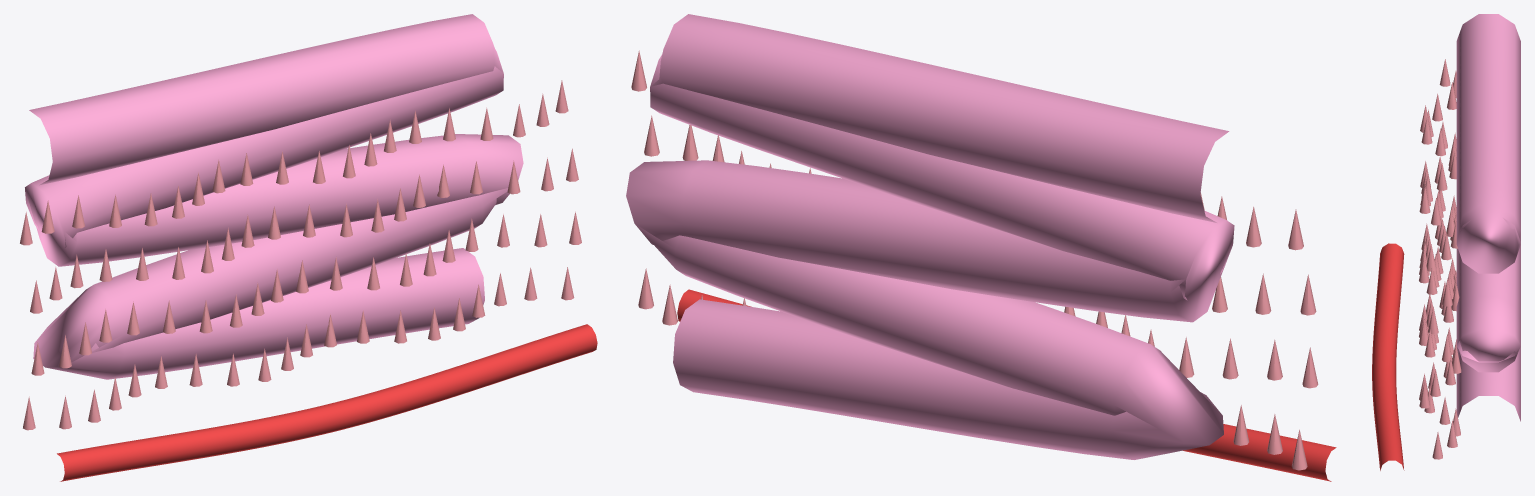
Rendered from small-intestine-villi-world.glb.
3 views of the same model, side by side, from view 1: azimuth 30°, elevation 25°; view 2: azimuth 150°, elevation 25°; view 3: azimuth 270°, elevation 25° (orthographic). The views are drawn at different scales.
Parts seen in each view (by area): view 1: coiled-small-intestine, blood-vessel; view 2: coiled-small-intestine, blood-vessel; view 3: coiled-small-intestine, blood-vessel, villus-71, villus-39, villus-60, villus-65, villus-78, villus-63, villus-19, villus-57, villus-59, villus-69 (+12 smaller).
Part boxes in pixels (x1=…): coiled-small-intestine: x1=25, y1=14, x2=523, y2=379; blood-vessel: x1=57, y1=324, x2=597, y2=481; coiled-small-intestine: x1=626, y1=14, x2=1234, y2=459; blood-vessel: x1=677, y1=289, x2=1336, y2=481; coiled-small-intestine: x1=1456, y1=14, x2=1520, y2=421; blood-vessel: x1=1372, y1=243, x2=1404, y2=470; villus-71: x1=1419, y1=185, x2=1430, y2=213; villus-39: x1=1419, y1=381, x2=1429, y2=408; villus-60: x1=1439, y1=59, x2=1450, y2=86; villus-65: x1=1421, y1=116, x2=1432, y2=144; villus-78: x1=1426, y1=267, x2=1437, y2=294; villus-63: x1=1432, y1=93, x2=1442, y2=121; villus-19: x1=1432, y1=432, x2=1442, y2=459; villus-57: x1=1428, y1=306, x2=1438, y2=334; villus-59: x1=1424, y1=329, x2=1435, y2=357; villus-69: x1=1436, y1=163, x2=1447, y2=190.
Size of the model in its own units: 3.3 by 1.88 by 0.925.
